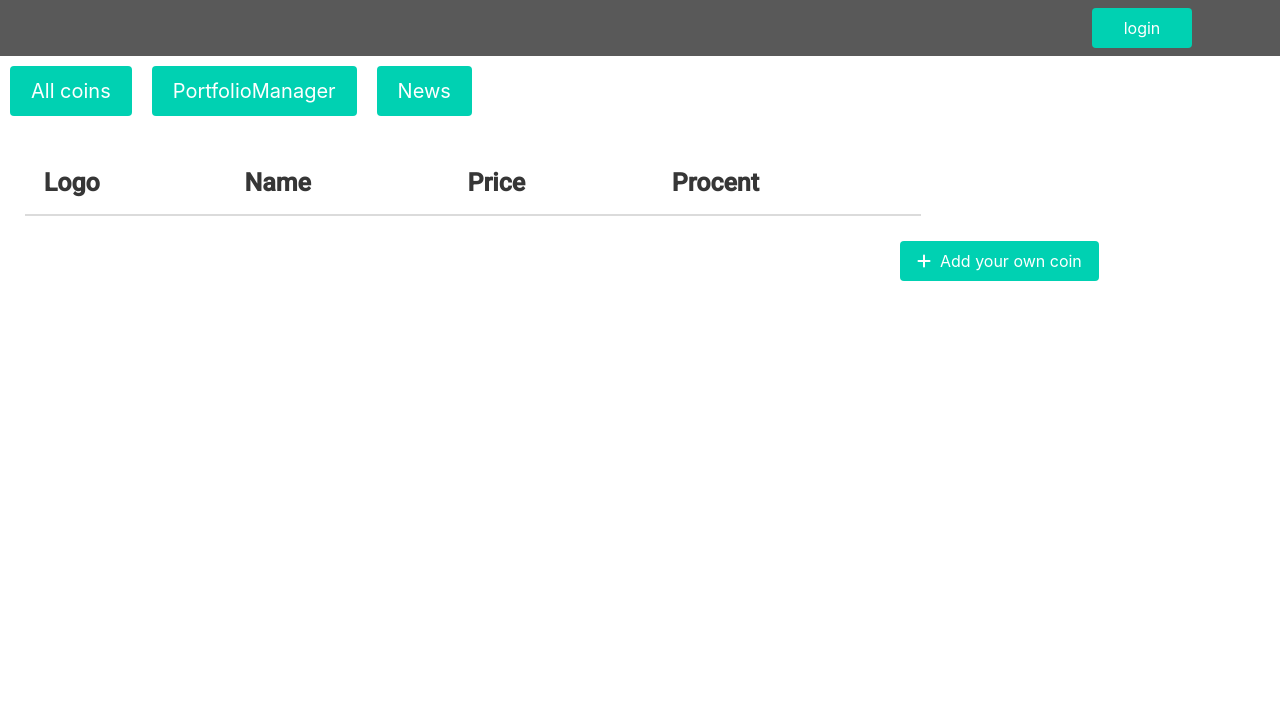
failed login › succesful login attempt
Click the button "PortfolioManager" at {"x": 255, "y": 91}, box [152, 66, 357, 116]
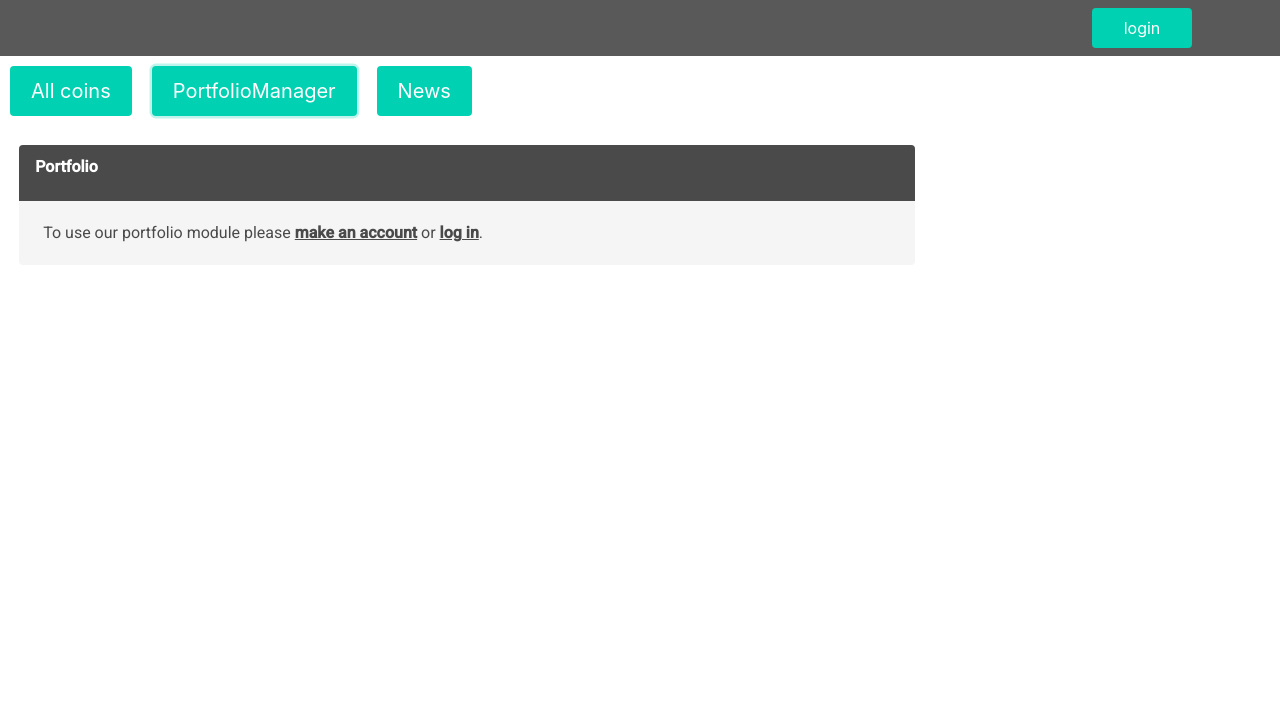
Click the link with id "login" at {"x": 460, "y": 233}, box [440, 223, 479, 242]
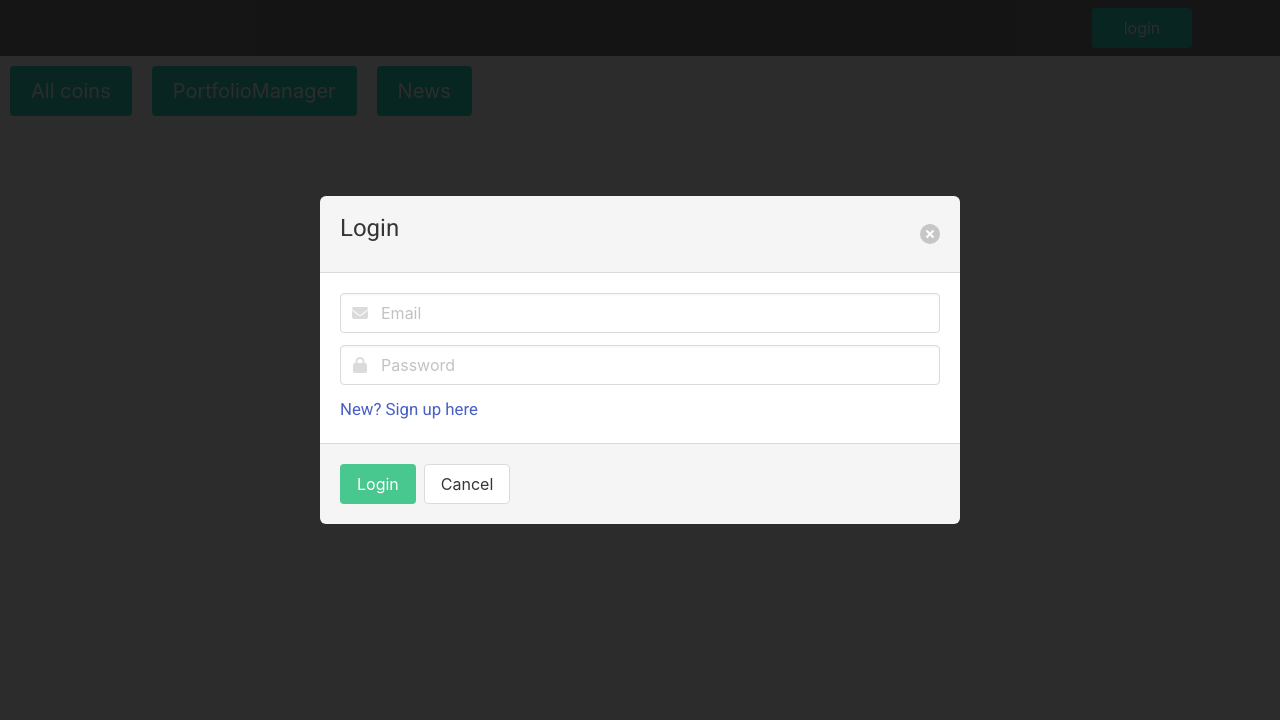
Type "jelle@gmail.com" into the field with test id "login-email" at {"x": 640, "y": 313}, box [340, 293, 940, 333]
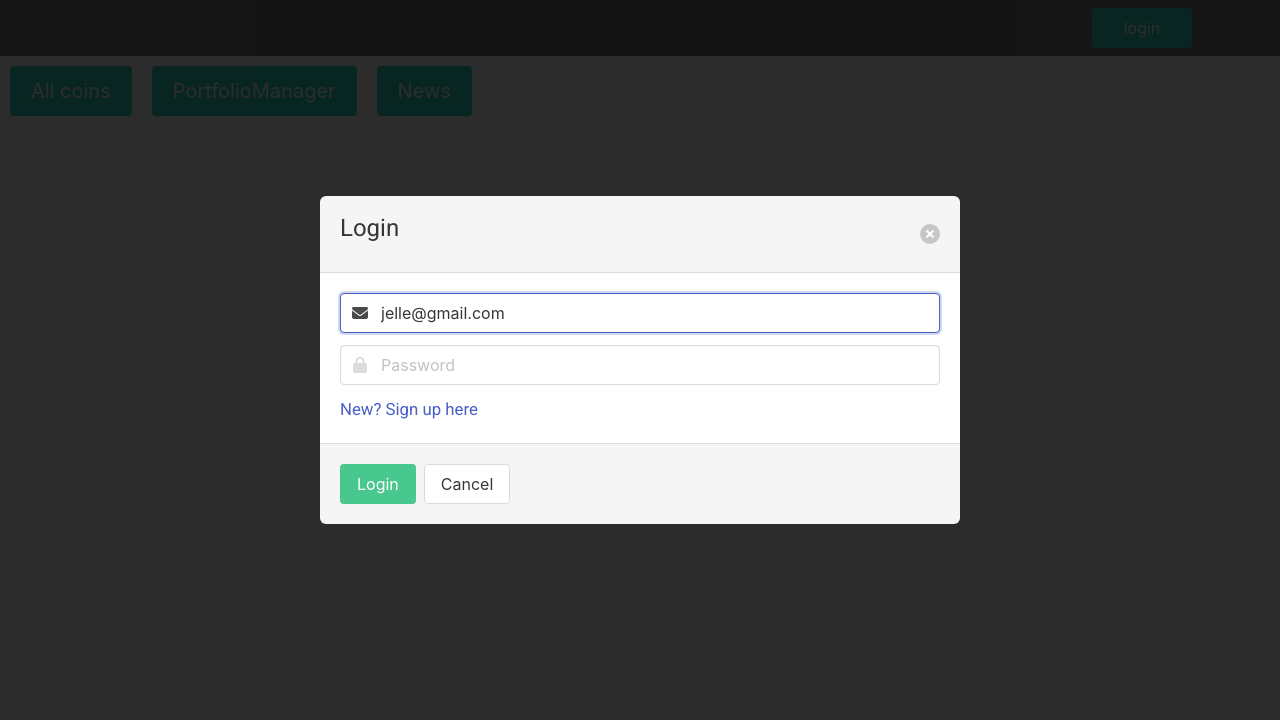
Type "azerty" into the password field with test id "login-password" at {"x": 640, "y": 365}, box [340, 345, 940, 385]
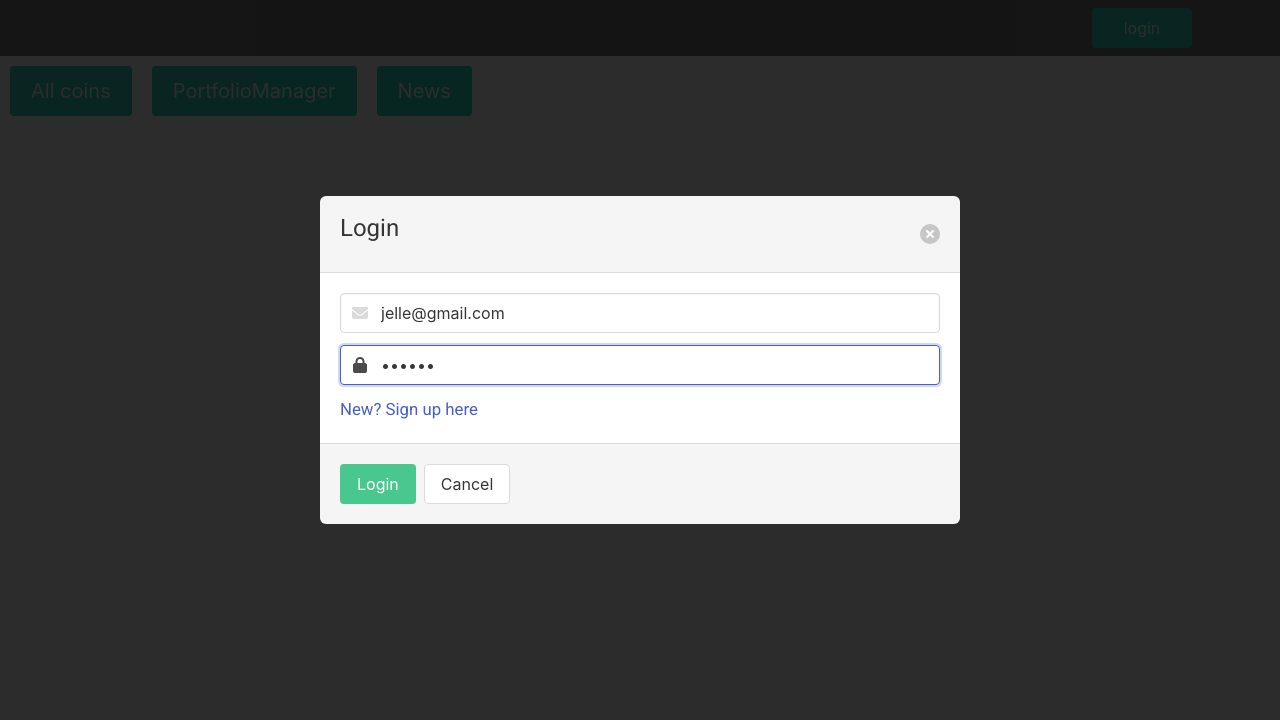
Click the button with test id "login-button" at {"x": 378, "y": 484}, box [340, 464, 416, 504]
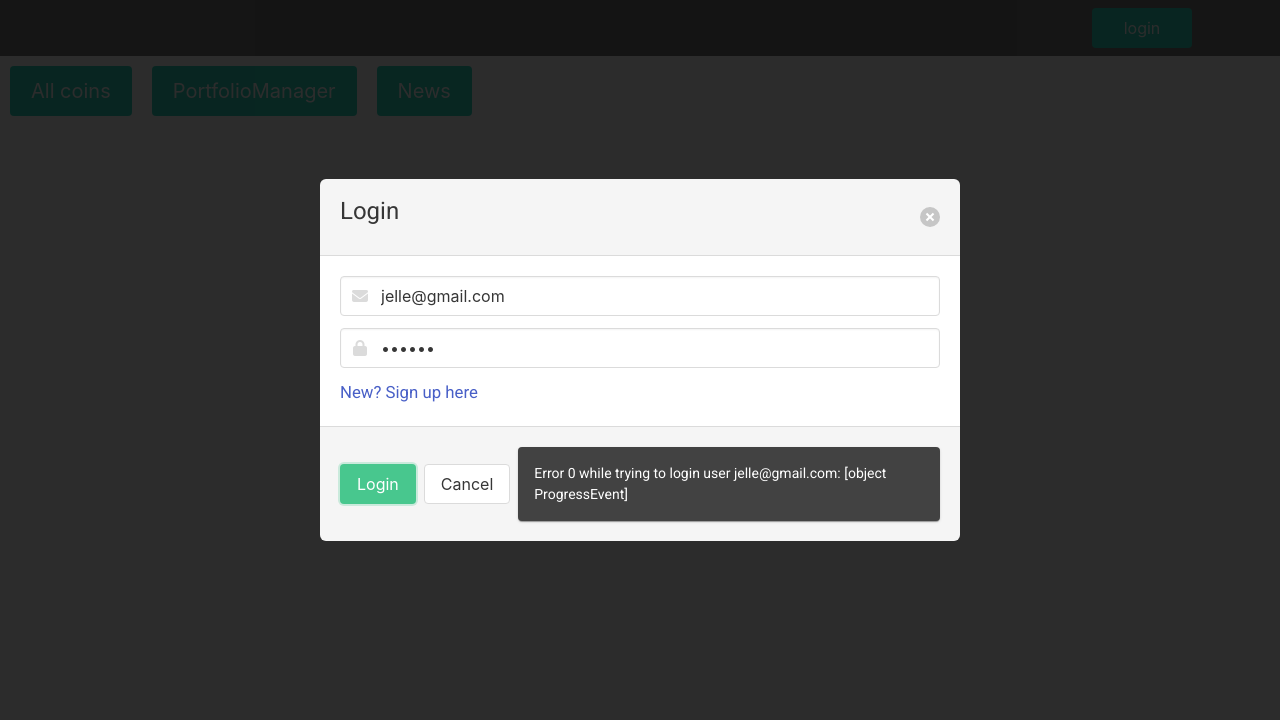
Expected: the text "Error" is shown, [534, 465, 886, 502]
